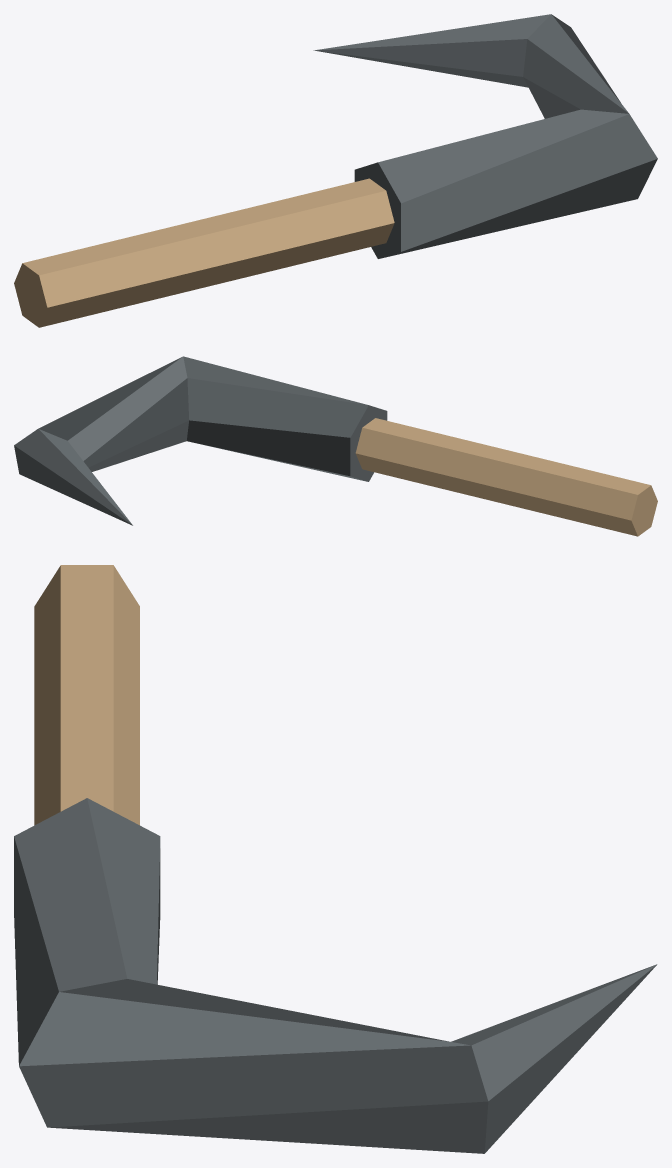
Rendered from item_051_sickle_s.glb.
3 views of the same model, one above another, from view 1: azimuth 30°, elevation 25°; view 2: azimuth 150°, elevation 25°; view 3: azimuth 270°, elevation 25° (orthographic). The views are drawn at different scales.
Parts seen in each view (by area): view 1: item_051_sickle_s; view 2: item_051_sickle_s; view 3: item_051_sickle_s.
Part boxes in pixels (bbox=[...]): item_051_sickle_s: bbox=[14, 14, 657, 327]; item_051_sickle_s: bbox=[14, 356, 657, 536]; item_051_sickle_s: bbox=[14, 565, 657, 1153].
Size of the model in its own units: 0.5764 by 0.08 by 0.3046.
